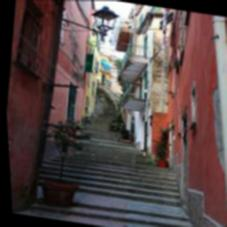Bench: (40, 123, 192, 221)
